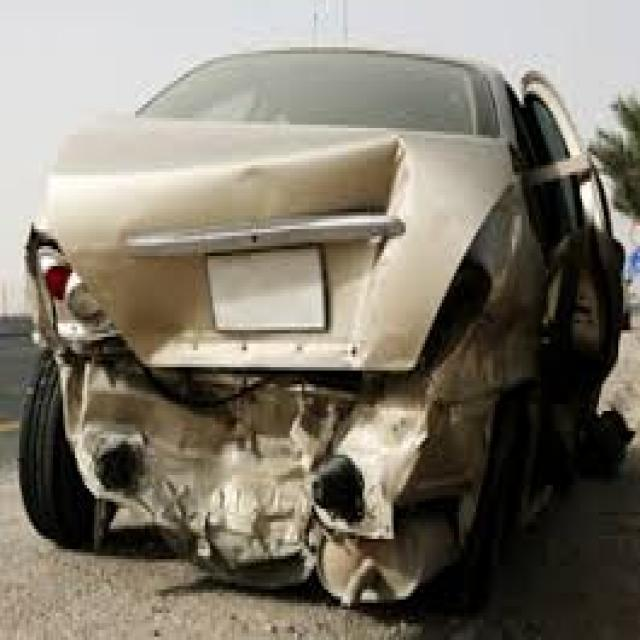damaged-trunk: (48, 107, 502, 380)
